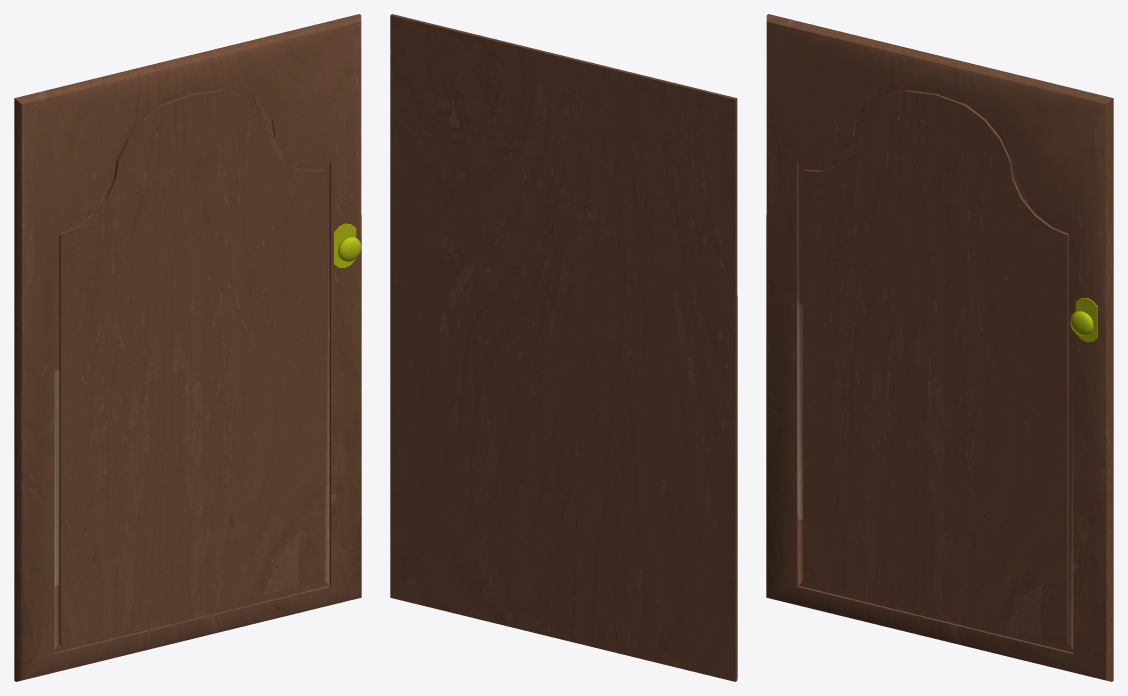
File: SM_Commode_porte.fbx
The picture shows the model from 3 angles, left to right: view 1: azimuth 30°, elevation 25°; view 2: azimuth 150°, elevation 25°; view 3: azimuth 330°, elevation 25°; orthographic projection.
Parts seen in each view (by area): view 1: Comode_porte; view 2: Comode_porte; view 3: Comode_porte.
Part boxes in pixels (box(x1,y1,x2,y2)): Comode_porte: box(14, 14, 361, 681); Comode_porte: box(390, 14, 737, 681); Comode_porte: box(766, 14, 1113, 681).
Bounding box in the file's own units: 0.4933 × 0.7951 × 0.0339.
